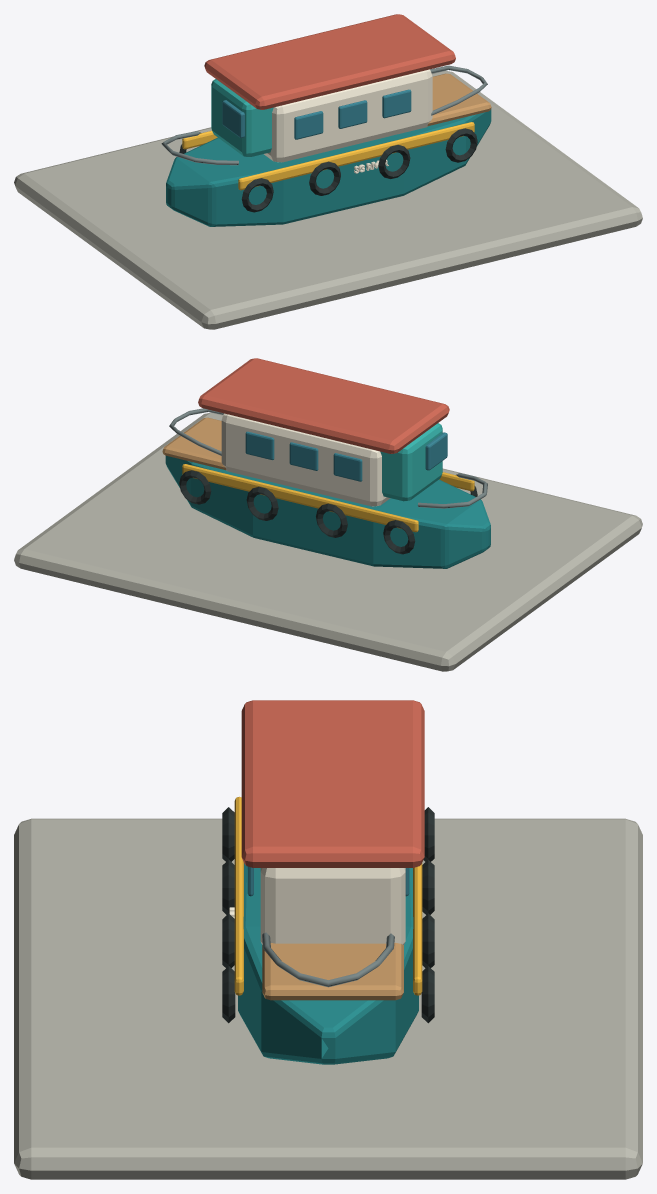
File: bumboat-v2.glb
3 views of the same model, one above another, from view 1: azimuth 30°, elevation 25°; view 2: azimuth 150°, elevation 25°; view 3: azimuth 270°, elevation 25° (orthographic). The views are drawn at different scales.
Visible parts, largest first — view 1: Ground, ISLAND RIVER BUMBOAT · Deep teal, ISLAND RIVER BUMBOAT · Terracotta, ISLAND RIVER BUMBOAT · Chalk, ISLAND RIVER BUMBOAT · Signal yellow, ISLAND RIVER BUMBOAT · Graphic glass, ISLAND RIVER BUMBOAT · Weathered teal, ISLAND RIVER BUMBOAT · Ink, ISLAND RIVER BUMBOAT · Sun timber, ISLAND RIVER BUMBOAT · Dark metal; view 2: Ground, ISLAND RIVER BUMBOAT · Deep teal, ISLAND RIVER BUMBOAT · Terracotta, ISLAND RIVER BUMBOAT · Chalk, ISLAND RIVER BUMBOAT · Signal yellow, ISLAND RIVER BUMBOAT · Weathered teal, ISLAND RIVER BUMBOAT · Graphic glass, ISLAND RIVER BUMBOAT · Ink, ISLAND RIVER BUMBOAT · Sun timber, ISLAND RIVER BUMBOAT · Dark metal; view 3: Ground, ISLAND RIVER BUMBOAT · Terracotta, ISLAND RIVER BUMBOAT · Deep teal, ISLAND RIVER BUMBOAT · Chalk, ISLAND RIVER BUMBOAT · Sun timber, ISLAND RIVER BUMBOAT · Ink, ISLAND RIVER BUMBOAT · Signal yellow, ISLAND RIVER BUMBOAT · Dark metal.
Part boxes in pixels (x1,y1,x2,y2): Ground: [14, 70, 642, 329]; ISLAND RIVER BUMBOAT · Deep teal: [166, 109, 491, 226]; ISLAND RIVER BUMBOAT · Terracotta: [204, 14, 455, 109]; ISLAND RIVER BUMBOAT · Chalk: [264, 69, 432, 173]; ISLAND RIVER BUMBOAT · Signal yellow: [182, 122, 474, 190]; ISLAND RIVER BUMBOAT · Graphic glass: [222, 89, 411, 139]; ISLAND RIVER BUMBOAT · Weathered teal: [211, 79, 273, 157]; ISLAND RIVER BUMBOAT · Ink: [179, 128, 477, 212]; ISLAND RIVER BUMBOAT · Sun timber: [427, 73, 491, 126]; ISLAND RIVER BUMBOAT · Dark metal: [161, 65, 487, 165]; Ground: [14, 412, 642, 671]; ISLAND RIVER BUMBOAT · Deep teal: [165, 455, 490, 568]; ISLAND RIVER BUMBOAT · Terracotta: [198, 358, 449, 453]; ISLAND RIVER BUMBOAT · Chalk: [221, 413, 390, 506]; ISLAND RIVER BUMBOAT · Signal yellow: [182, 464, 474, 532]; ISLAND RIVER BUMBOAT · Weathered teal: [380, 423, 442, 501]; ISLAND RIVER BUMBOAT · Graphic glass: [245, 431, 447, 481]; ISLAND RIVER BUMBOAT · Ink: [179, 470, 477, 554]; ISLAND RIVER BUMBOAT · Sun timber: [162, 417, 226, 470]; ISLAND RIVER BUMBOAT · Dark metal: [169, 408, 487, 508]; Ground: [14, 818, 642, 1179]; ISLAND RIVER BUMBOAT · Terracotta: [241, 700, 424, 867]; ISLAND RIVER BUMBOAT · Deep teal: [238, 863, 418, 1064]; ISLAND RIVER BUMBOAT · Chalk: [229, 868, 405, 944]; ISLAND RIVER BUMBOAT · Sun timber: [262, 942, 403, 1000]; ISLAND RIVER BUMBOAT · Ink: [222, 807, 434, 1023]; ISLAND RIVER BUMBOAT · Signal yellow: [234, 796, 422, 995]; ISLAND RIVER BUMBOAT · Dark metal: [262, 932, 394, 987].
Size of the model in its own units: 7 by 2.32 by 5.43.
Materials: 1 (1 with a texture image).
